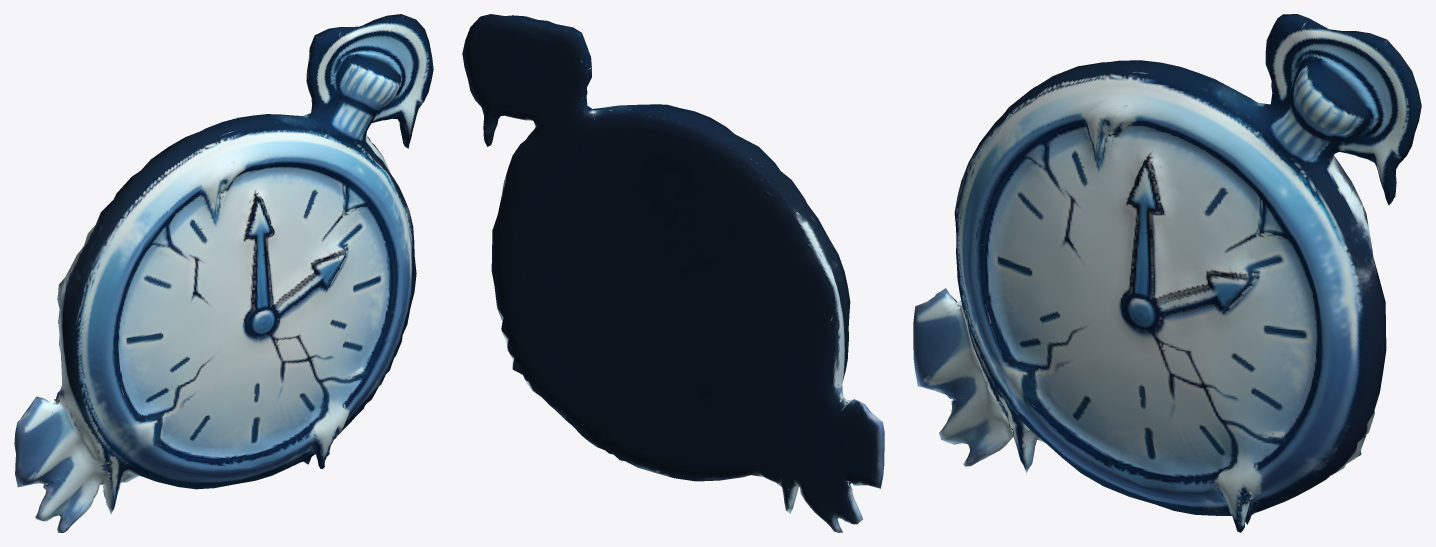
Rendered from FreezeAll.fbx.
3 views of the same model, side by side, from view 1: azimuth 30°, elevation 25°; view 2: azimuth 150°, elevation 25°; view 3: azimuth 330°, elevation 25° (orthographic). The views are drawn at different scales.
Visible parts, largest first — view 1: RETOPO; view 2: RETOPO; view 3: RETOPO.
Boxes of the visible parts, left/top/right/bottom form: RETOPO: left=14, top=14, right=433, bottom=532; RETOPO: left=462, top=14, right=884, bottom=532; RETOPO: left=913, top=14, right=1421, bottom=532.
Bounding box in the file's own units: 89.8 × 89.7 × 12.78.
Materials: 1 (1 with a texture image).
